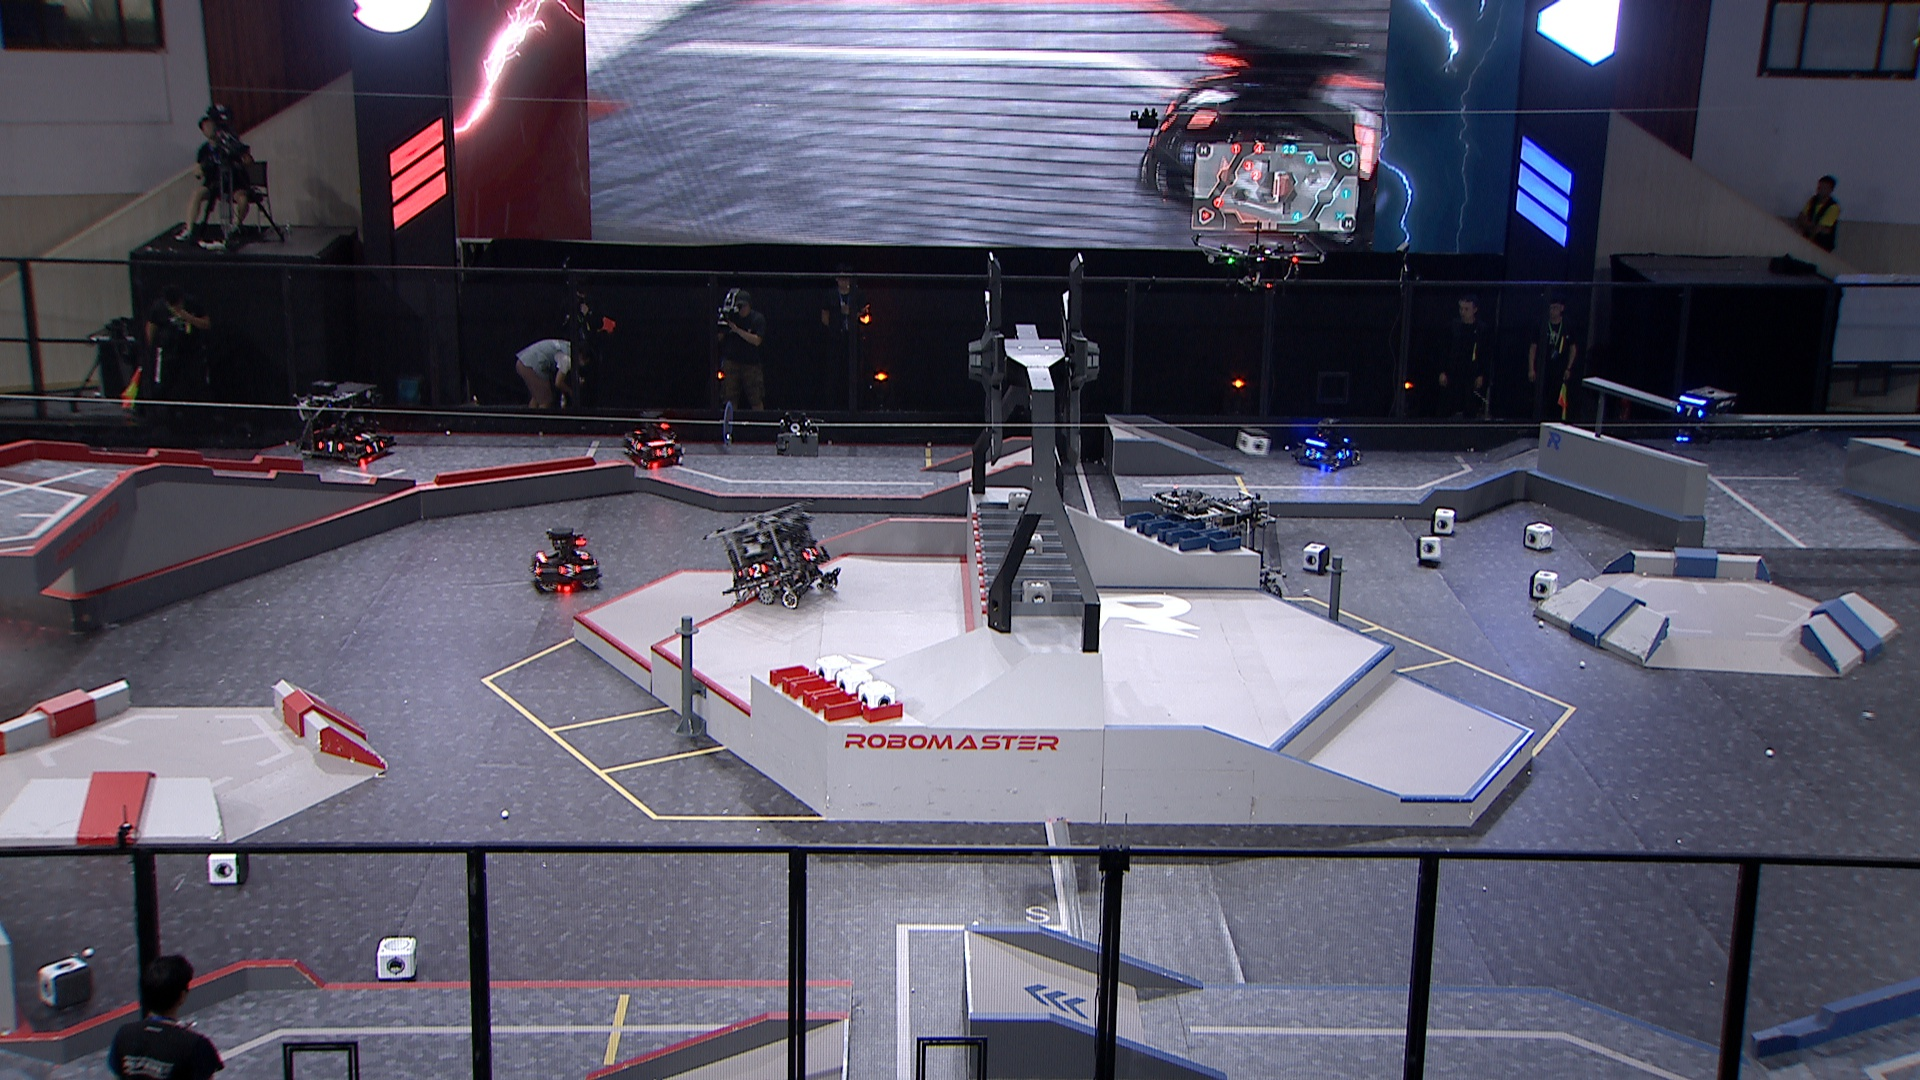armor: (1673, 404, 1706, 422), (313, 438, 345, 455), (363, 434, 386, 456), (745, 560, 767, 580), (558, 560, 583, 578), (796, 542, 818, 562), (574, 543, 593, 564), (651, 444, 676, 460), (352, 429, 378, 443), (527, 559, 543, 578), (628, 436, 644, 452), (1335, 447, 1352, 462), (1305, 447, 1320, 460)
car: (1149, 484, 1288, 604), (708, 498, 840, 611), (290, 377, 396, 471), (524, 526, 612, 597), (1291, 411, 1364, 475), (618, 410, 688, 472)
ignore: (1133, 3, 1395, 243)
watcher: (1667, 382, 1737, 447)
